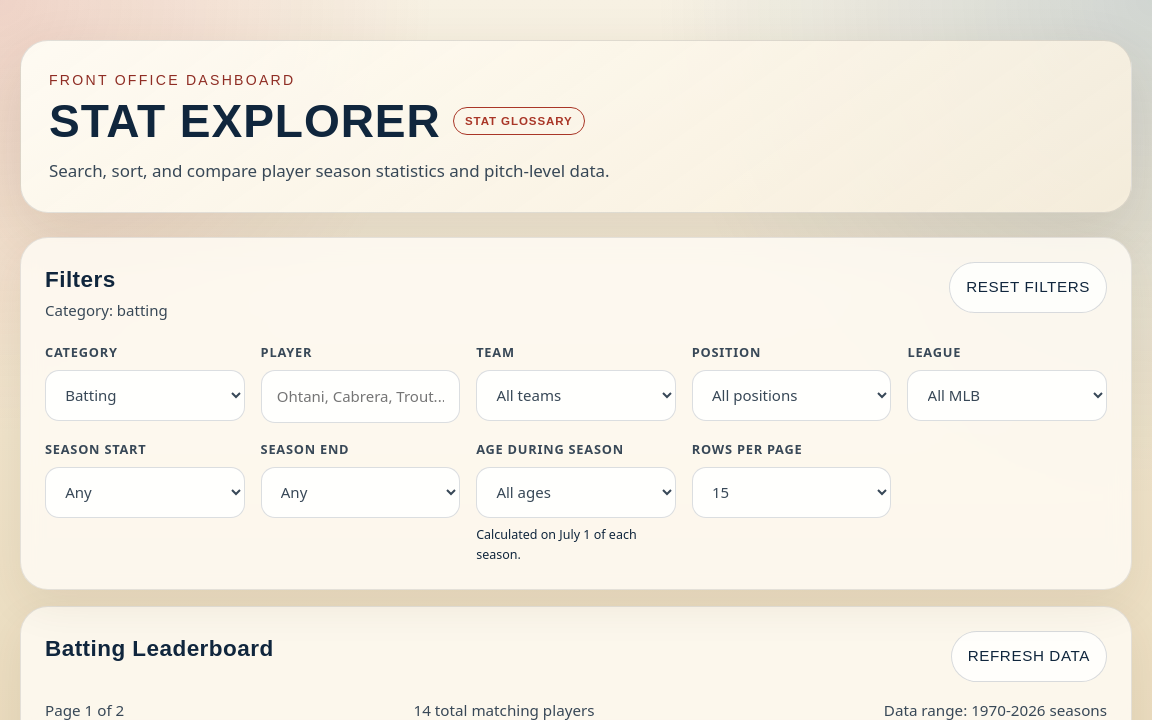
StatExplorer › preserves pitch data category when resetting pitch filters
The width and height of the screenshot is (1152, 720).
Select "Pitch Data" in the dropdown labelled "Category". click: (145,395)
box: [45, 370, 245, 421]
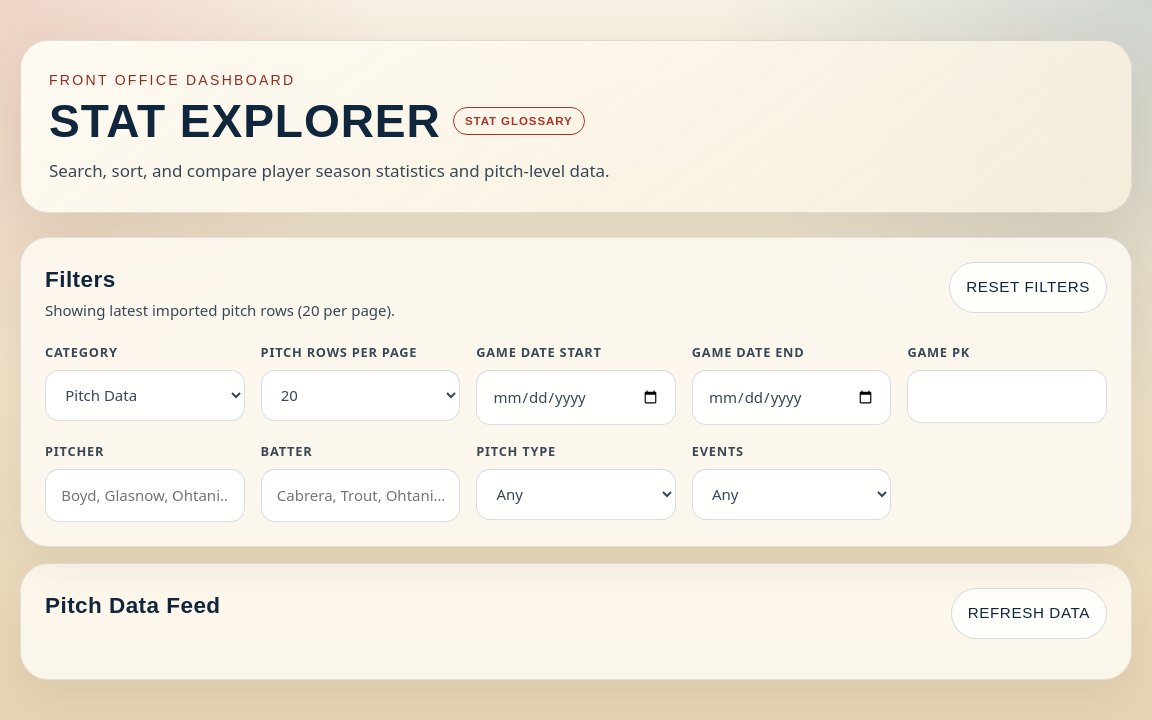
Type "2026-04-29" into the date field with test id "pitch-game-date-start-filter". click: (576,397)
box: [476, 370, 676, 425]
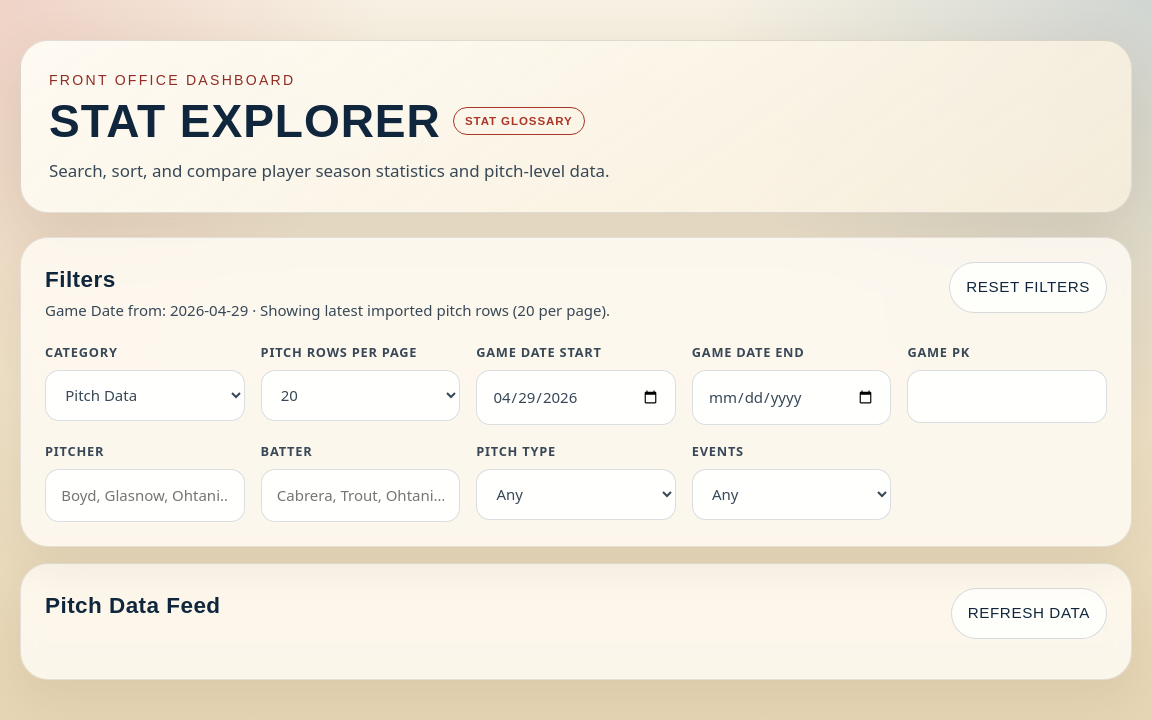
Type "Matthew" into the field with test id "pitch-pitcher-filter". click: (145,495)
box: [45, 468, 245, 522]
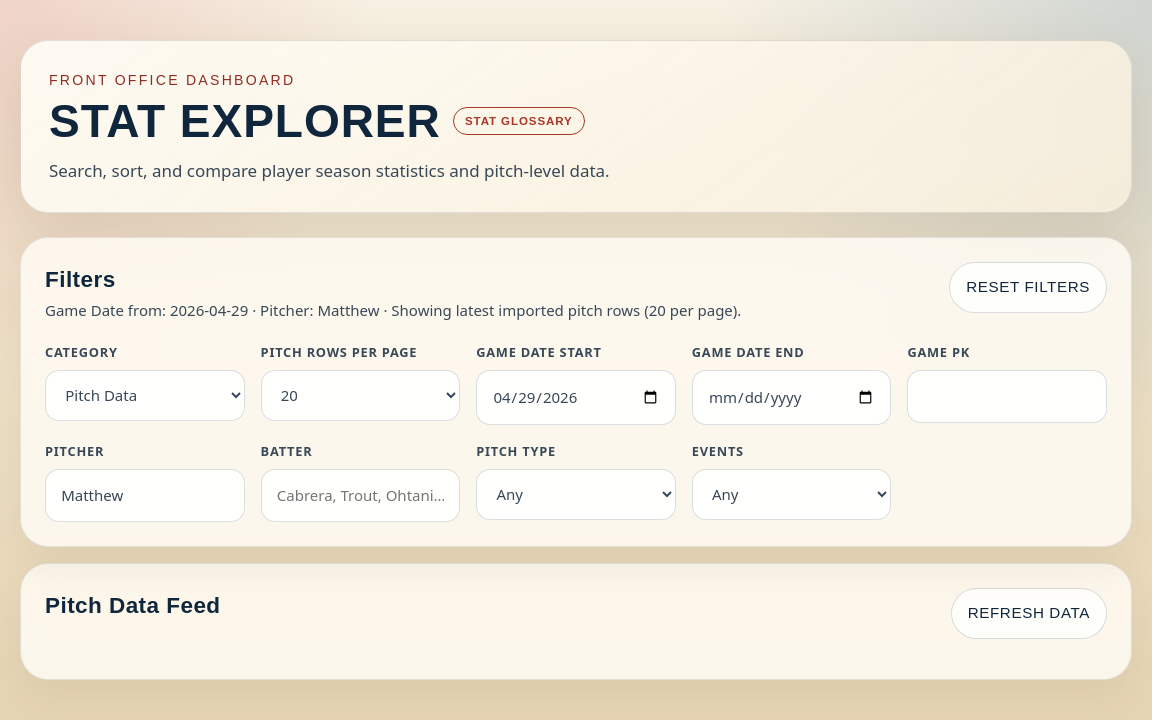
Click the button with class "ghost-button" showing "Reset Filters". click: (1028,288)
box: [949, 262, 1107, 313]
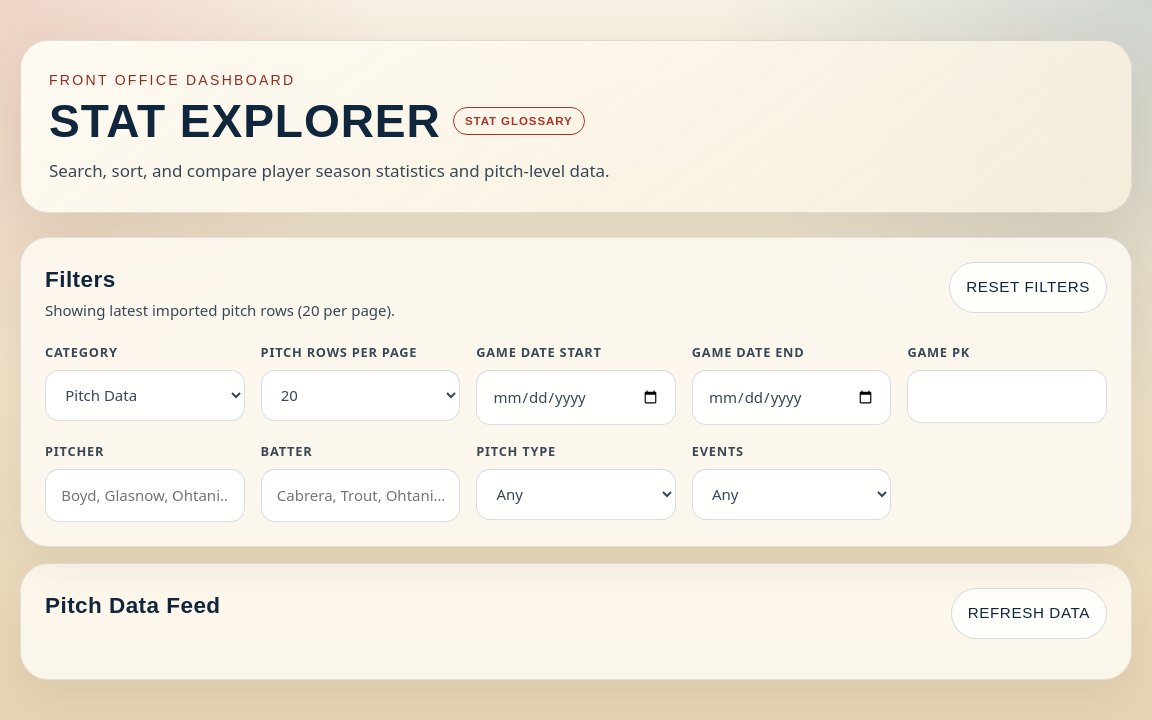
Now the text "Showing latest imported pitch rows (20 per page)." is shown, box [45, 298, 395, 322]
Now the date field with test id "pitch-game-date-start-filter" is empty, box [476, 370, 676, 425]
Now the field with test id "pitch-pitcher-filter" is empty, box [45, 468, 245, 522]
